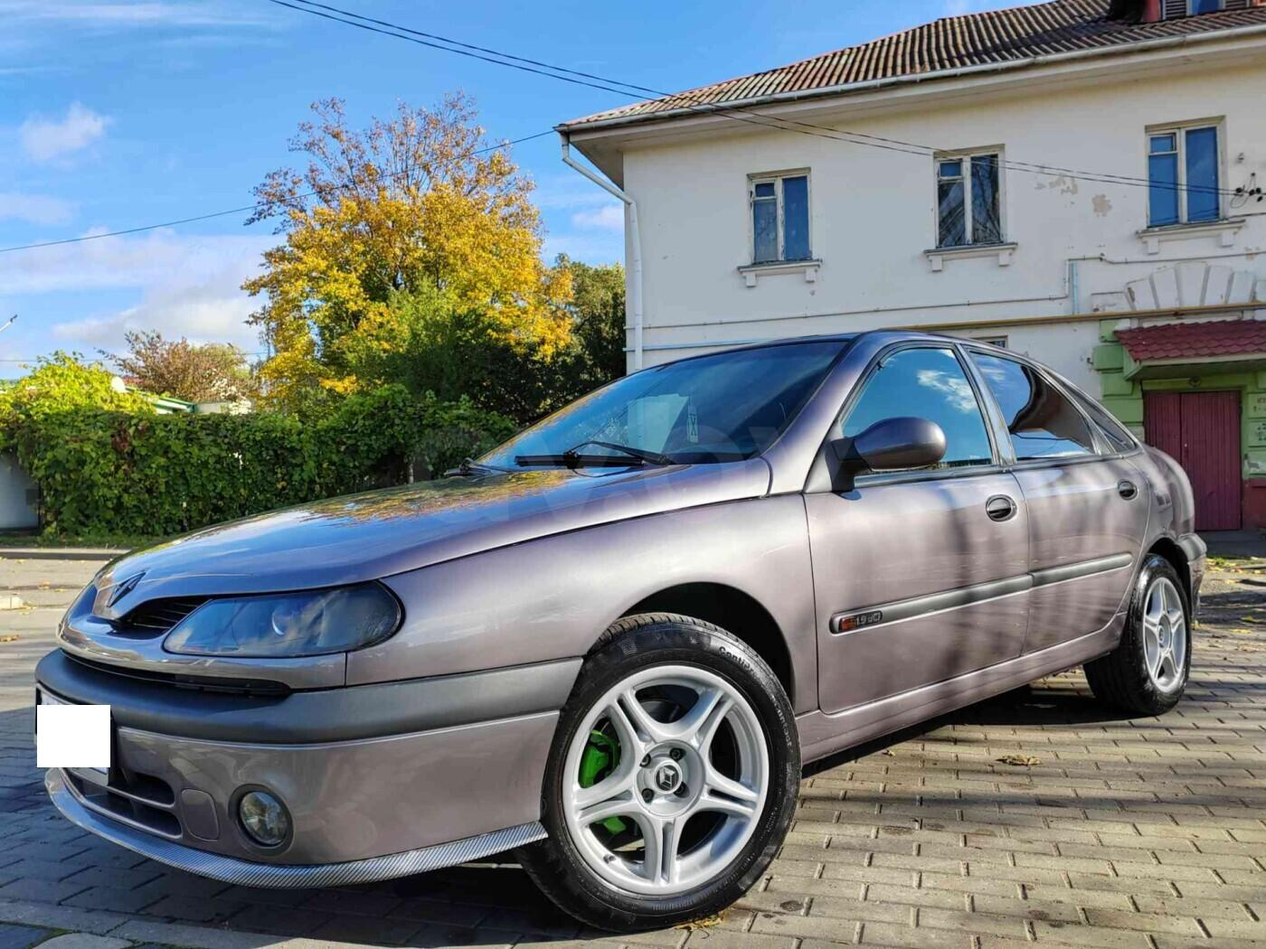Laguna_1998-2001: (26, 336, 1216, 927)
